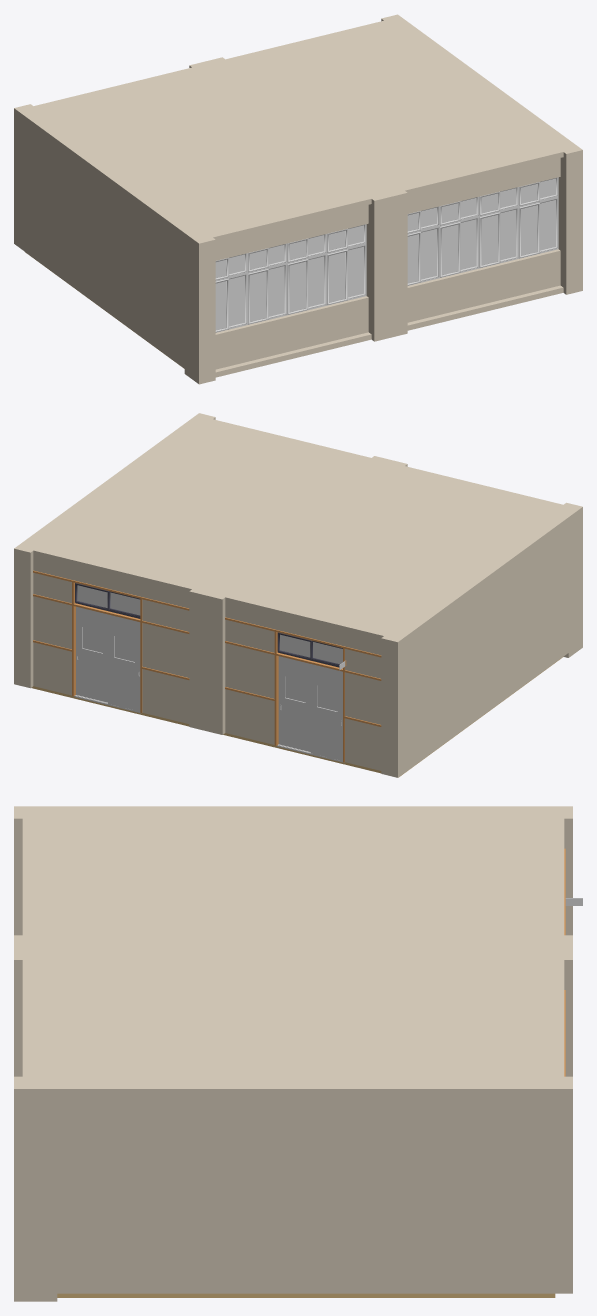
File: Classroom.fbx
The picture shows the model from 3 angles, top to bottom: view 1: azimuth 30°, elevation 25°; view 2: azimuth 150°, elevation 25°; view 3: azimuth 270°, elevation 25°; orthographic projection. The views are drawn at different scales.
Visible parts, largest first — view 1: Frame, Ceil, Glass.015, Glass.024, Glass.014, Glass.009, Glass.025, Glass.030, Glass.007, Glass.008, Glass.031, Glass.032 (+8 smaller); view 2: Frame, Ceil, Doorknob.001, Doorknob.003, SlidingDoor, Doorknob.002, WoodFrame.001, WoodFrame.000, Floor, Glass, Glass.003, Glass.001 (+1 smaller); view 3: Frame, Ceil, Floor.
Part boxes in pixels (<box>): Frame: <box>14,14,582,384</box>; Ceil: <box>29,21,560,232</box>; Glass.015: <box>441,224,458,274</box>; Glass.024: <box>249,271,266,321</box>; Glass.014: <box>460,219,476,269</box>; Glass.009: <box>500,209,516,260</box>; Glass.025: <box>268,266,284,316</box>; Glass.030: <box>308,256,324,306</box>; Glass.007: <box>521,205,537,255</box>; Glass.008: <box>481,215,497,265</box>; Glass.031: <box>289,261,305,312</box>; Glass.032: <box>329,252,345,302</box>; Frame: <box>14,413,582,777</box>; Ceil: <box>30,424,561,635</box>; Doorknob.001: <box>310,664,342,760</box>; Doorknob.003: <box>108,614,140,711</box>; SlidingDoor: <box>278,656,310,751</box>; Doorknob.002: <box>76,606,107,702</box>; WoodFrame.001: <box>33,570,189,712</box>; WoodFrame.000: <box>225,617,381,762</box>; Floor: <box>31,657,562,777</box>; Glass: <box>110,592,140,615</box>; Glass.003: <box>280,634,310,657</box>; Glass.001: <box>77,585,107,607</box>; Frame: <box>14,806,572,1301</box>; Ceil: <box>48,813,555,1081</box>; Floor: <box>57,1293,555,1297</box>.
Size of the model in its own units: 924 by 324 by 786.
